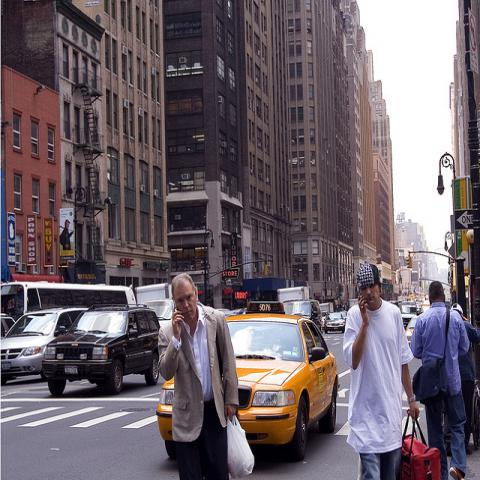bus: (0, 281, 137, 328)
car: (158, 315, 338, 445), (42, 302, 160, 396), (1, 308, 84, 385), (285, 299, 323, 334), (230, 300, 290, 318), (324, 310, 347, 334), (401, 305, 417, 328), (0, 316, 17, 337), (406, 316, 418, 344), (224, 308, 244, 317), (417, 307, 424, 315)
truck: (242, 278, 311, 314), (136, 282, 174, 326), (277, 286, 310, 302), (320, 302, 334, 320), (349, 299, 358, 309)
